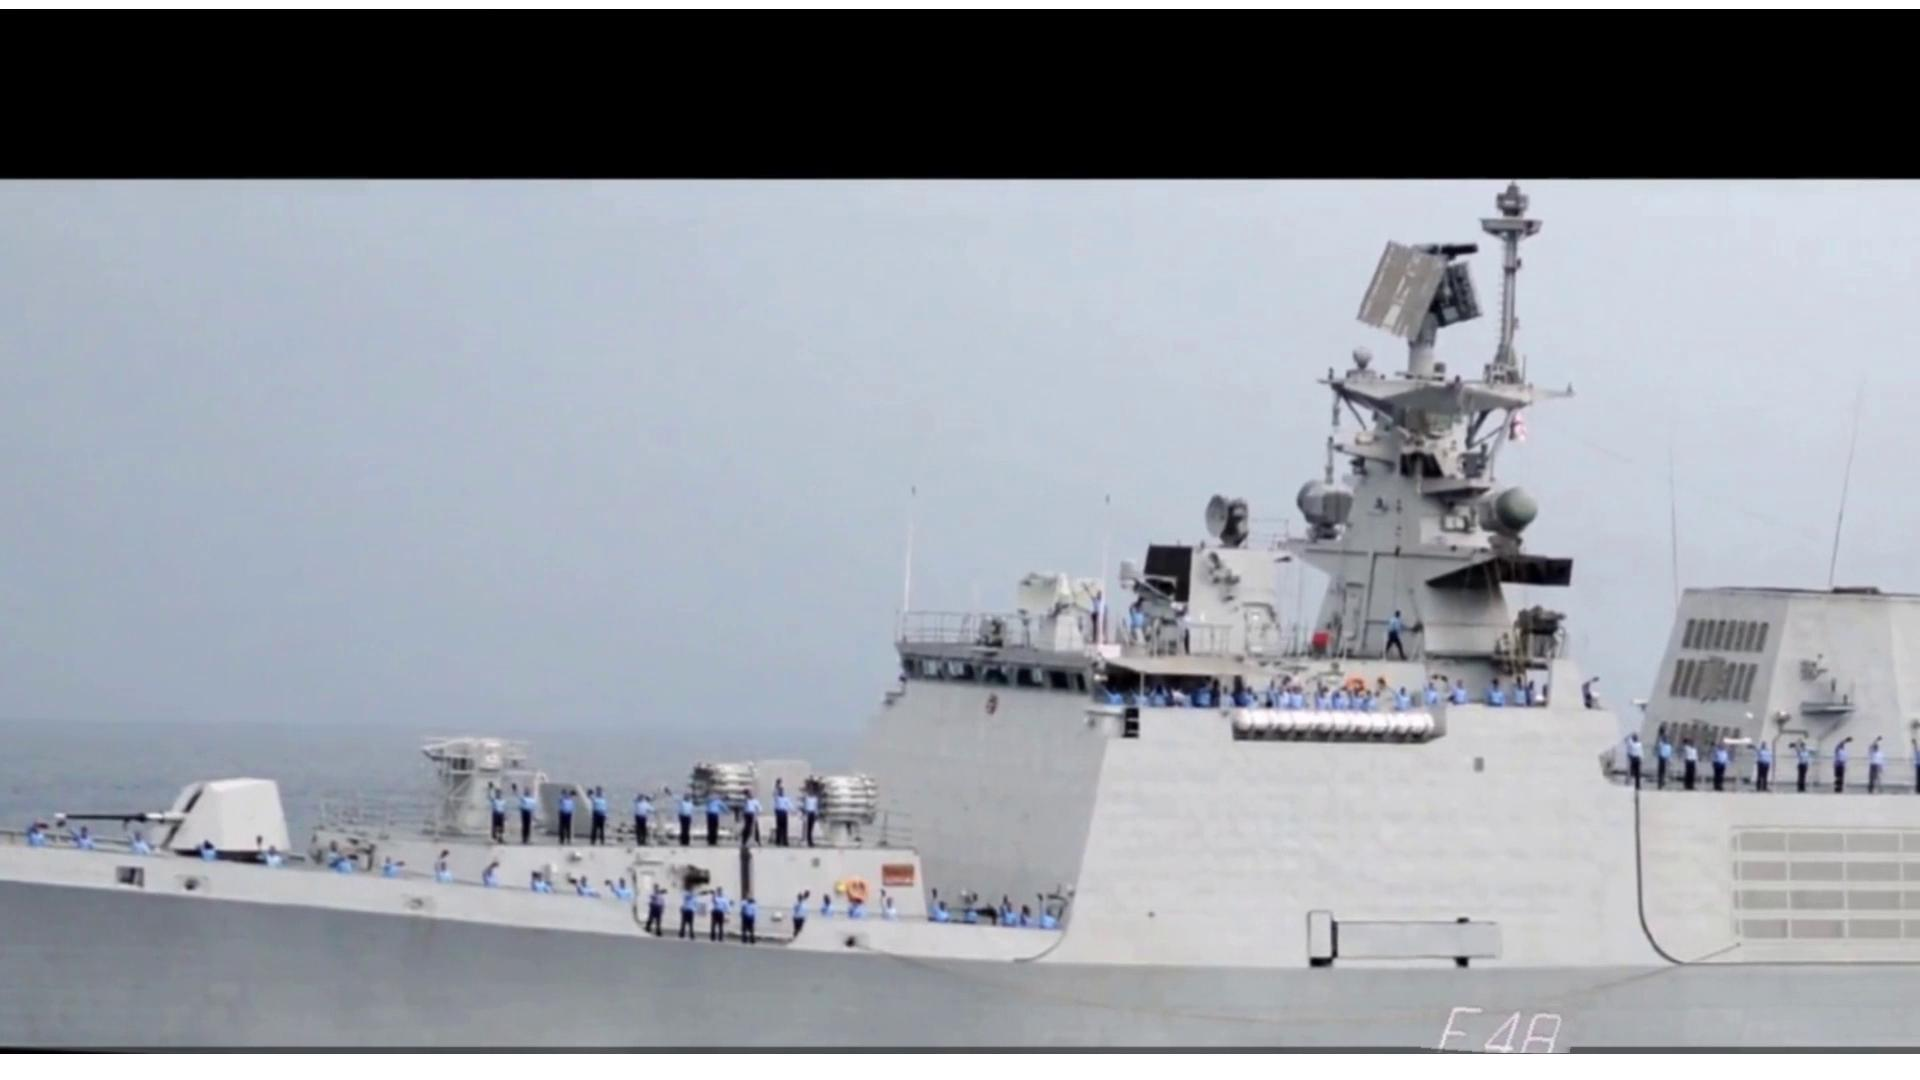OCR: (1422, 992, 1580, 1054)
